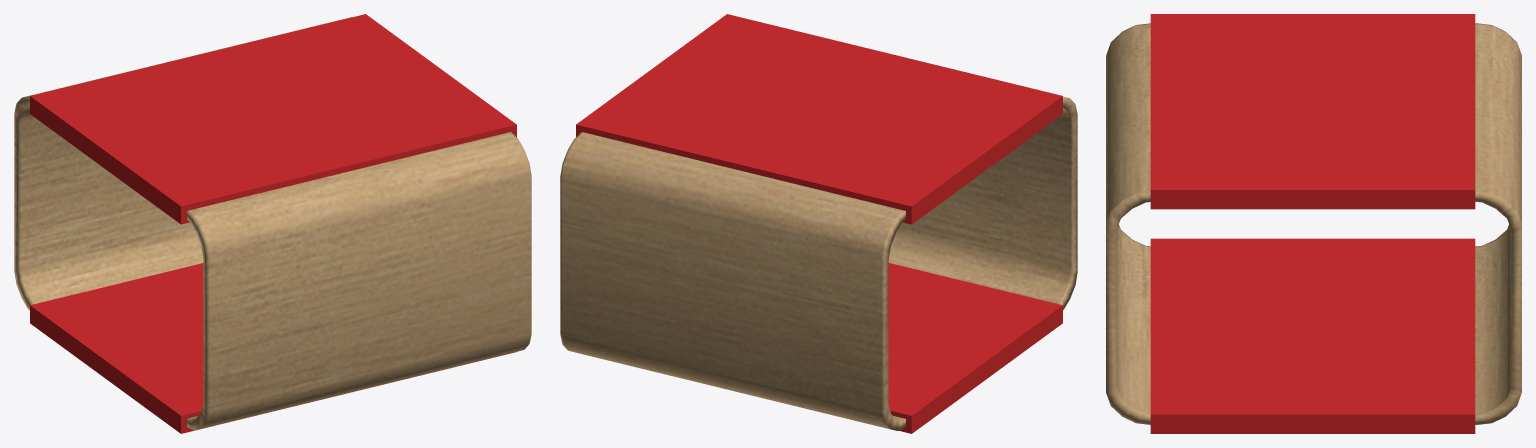
File: MOD_FUR_Nightstand_01.fbx
3 views of the same model, side by side, from view 1: azimuth 30°, elevation 25°; view 2: azimuth 150°, elevation 25°; view 3: azimuth 270°, elevation 25° (orthographic). The views are drawn at different scales.
Parts seen in each view (by area): view 1: HSHP_MOD_Nightstand_01; view 2: HSHP_MOD_Nightstand_01; view 3: HSHP_MOD_Nightstand_01.
Part boxes in pixels (x1,y1,x2,y2): HSHP_MOD_Nightstand_01: (14, 14, 531, 433); HSHP_MOD_Nightstand_01: (560, 14, 1077, 433); HSHP_MOD_Nightstand_01: (1106, 14, 1521, 433).
Size of the model in its own units: 0.7475 by 0.4838 by 0.747.
